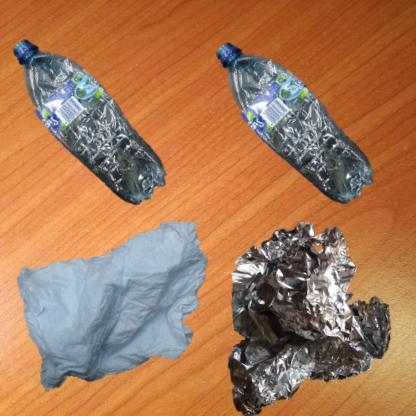aluminio: (213, 213, 403, 416)
botella: (213, 10, 410, 269), (10, 10, 197, 262)
papel: (10, 213, 243, 406)
